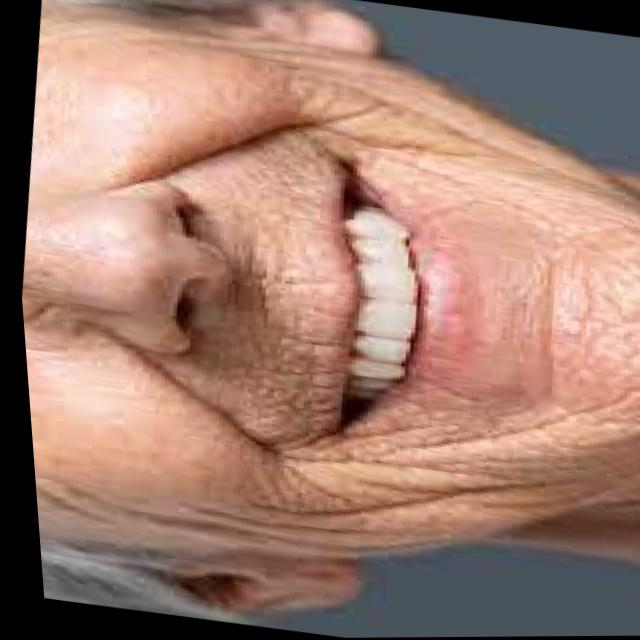Wrinkles: (26, 343, 631, 560), (84, 80, 640, 217)
